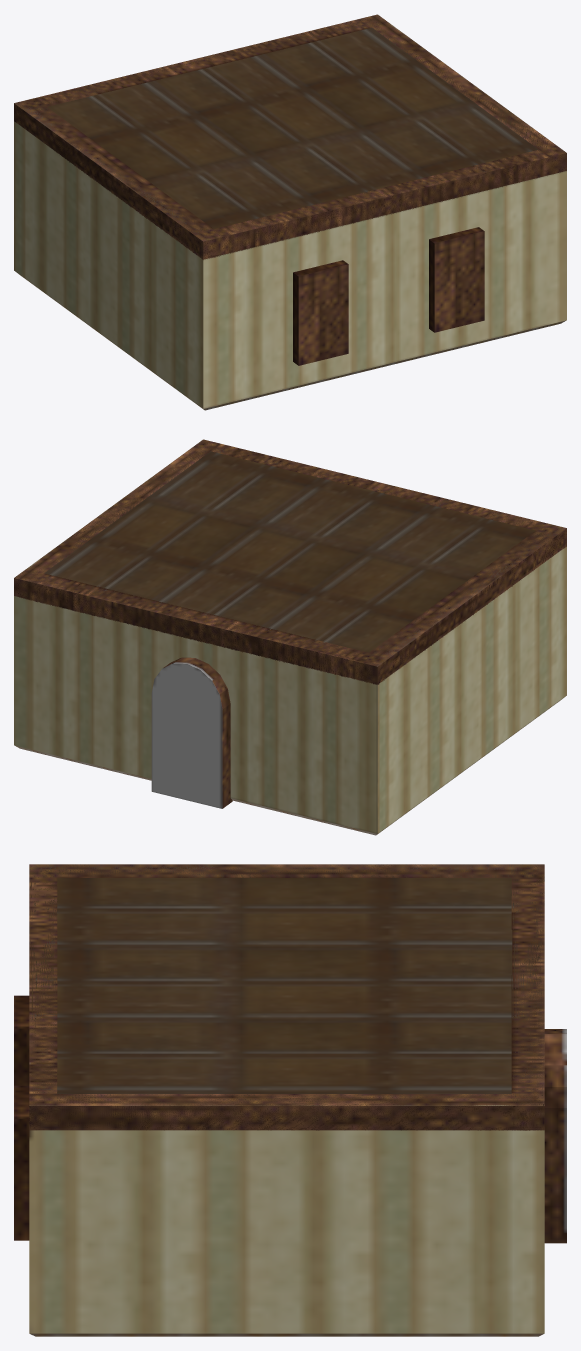
Rendered from Pokoj_2.fbx.
3 views of the same model, one above another, from view 1: azimuth 30°, elevation 25°; view 2: azimuth 150°, elevation 25°; view 3: azimuth 270°, elevation 25° (orthographic). The views are drawn at different scales.
Parts seen in each view (by area): view 1: Pokoj_2; view 2: Pokoj_2; view 3: Pokoj_2.
Part boxes in pixels (bbox=[...]): Pokoj_2: bbox=[14, 14, 566, 410]; Pokoj_2: bbox=[14, 439, 566, 835]; Pokoj_2: bbox=[14, 864, 566, 1336].
Bounding box in the file's own units: 1755 × 794 × 1698.
